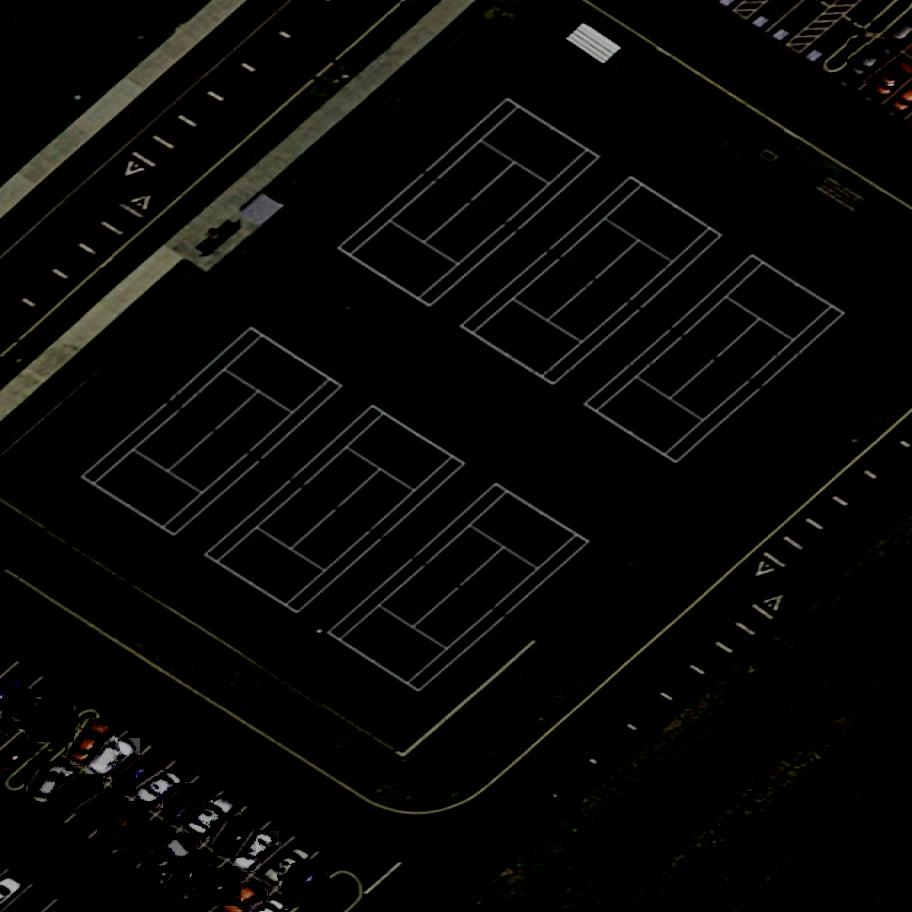small-vehicle: (183, 793, 241, 845), (847, 36, 903, 89), (85, 734, 141, 785), (100, 799, 150, 854), (28, 692, 75, 750), (69, 716, 117, 772), (2, 686, 56, 733), (282, 856, 328, 910), (164, 781, 213, 831), (166, 848, 212, 901), (144, 832, 197, 878), (112, 753, 162, 801), (233, 828, 280, 877), (194, 865, 242, 912), (262, 844, 311, 890), (28, 757, 70, 810), (137, 768, 188, 811), (56, 773, 104, 818), (214, 814, 256, 863), (225, 880, 269, 912)
